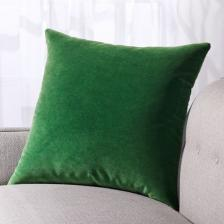green: (8, 29, 210, 211)
